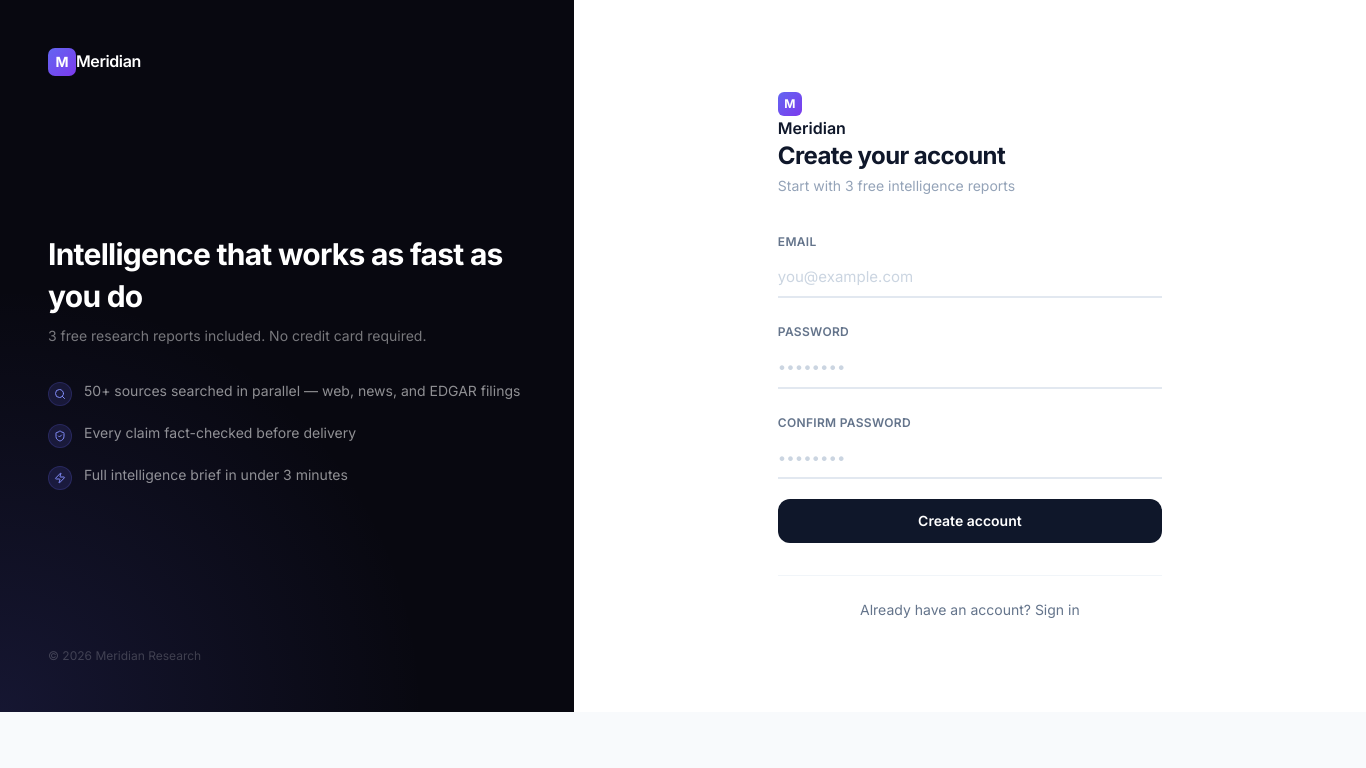
Test: SignUpPage › shows error on mismatched passwords
Type "test@example.com" into the field labelled "Email" at (970, 278), box [778, 258, 1162, 298]
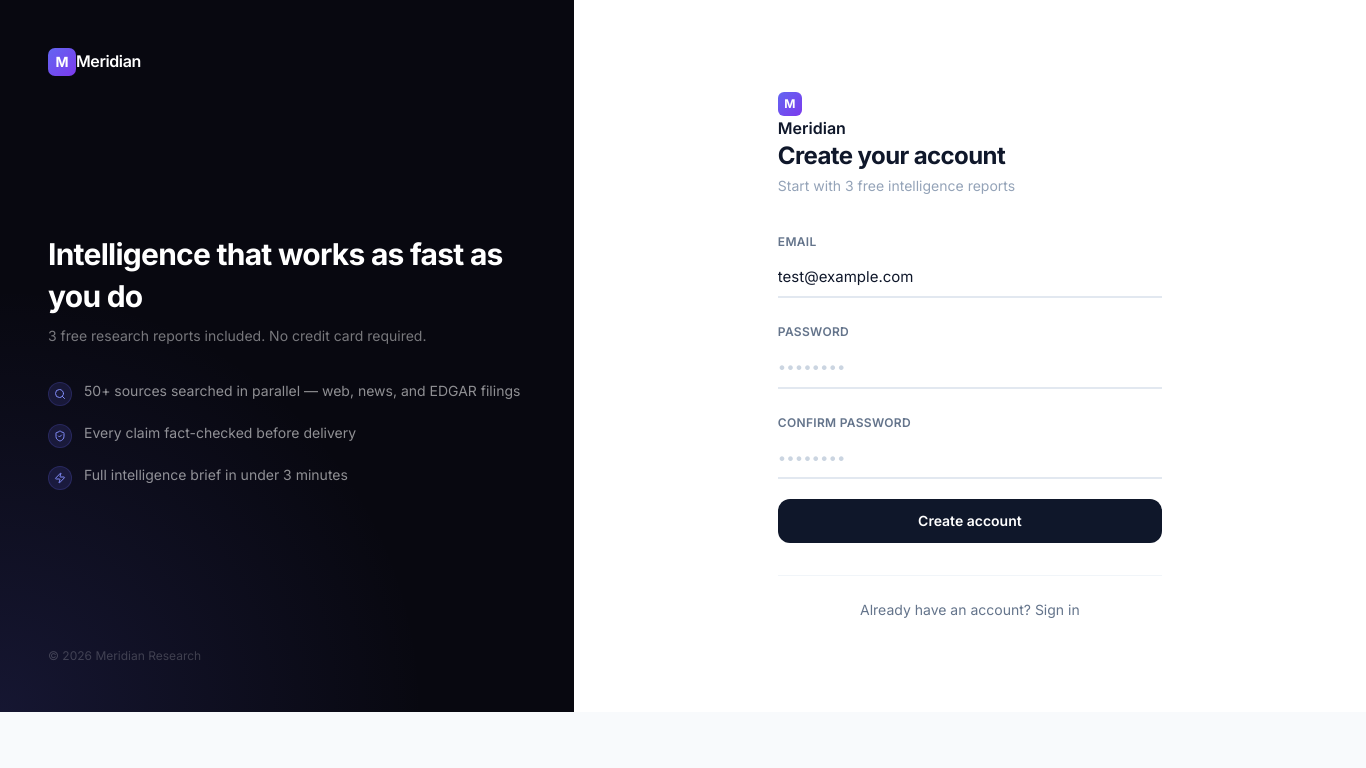
Type "password123" into the password field labelled "Password" at (970, 369), box [778, 348, 1162, 389]
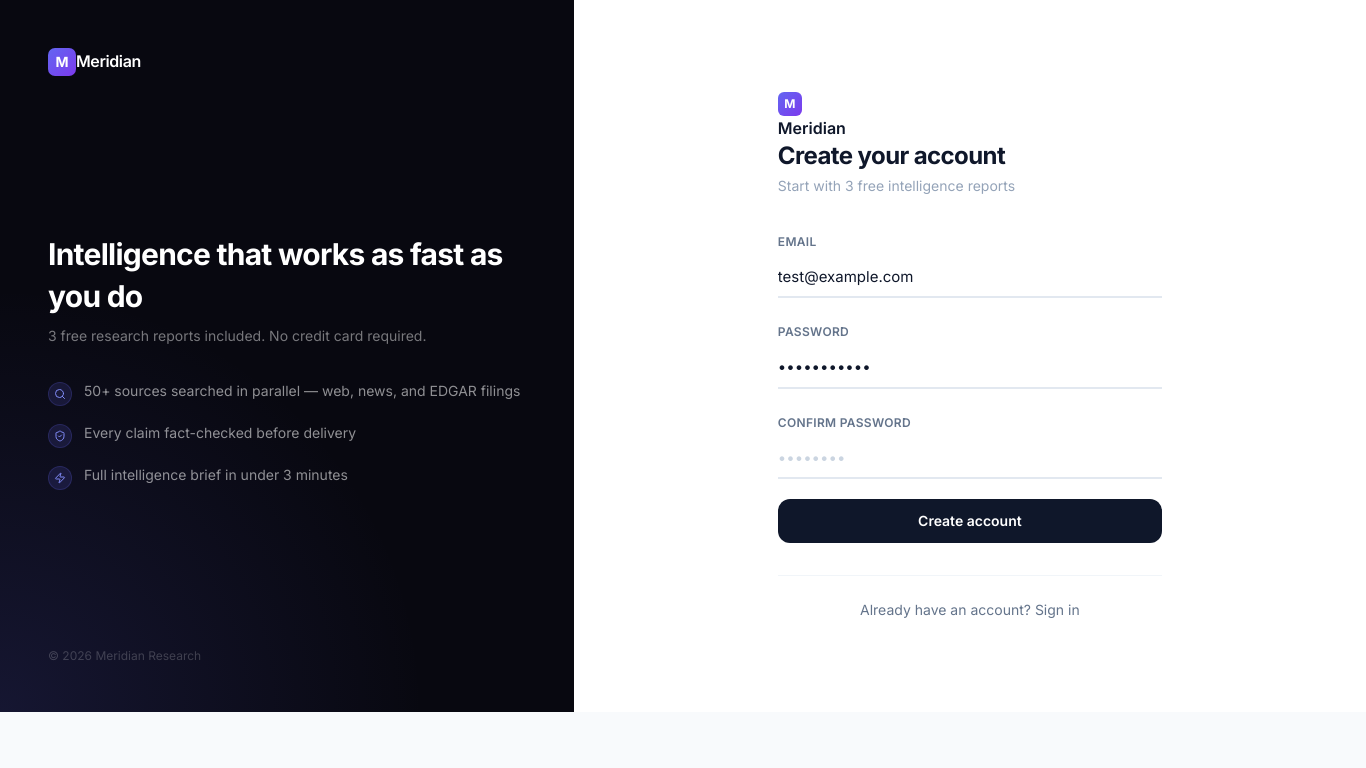
Type "different456" into the password field labelled "Confirm password" at (970, 459), box [778, 439, 1162, 479]
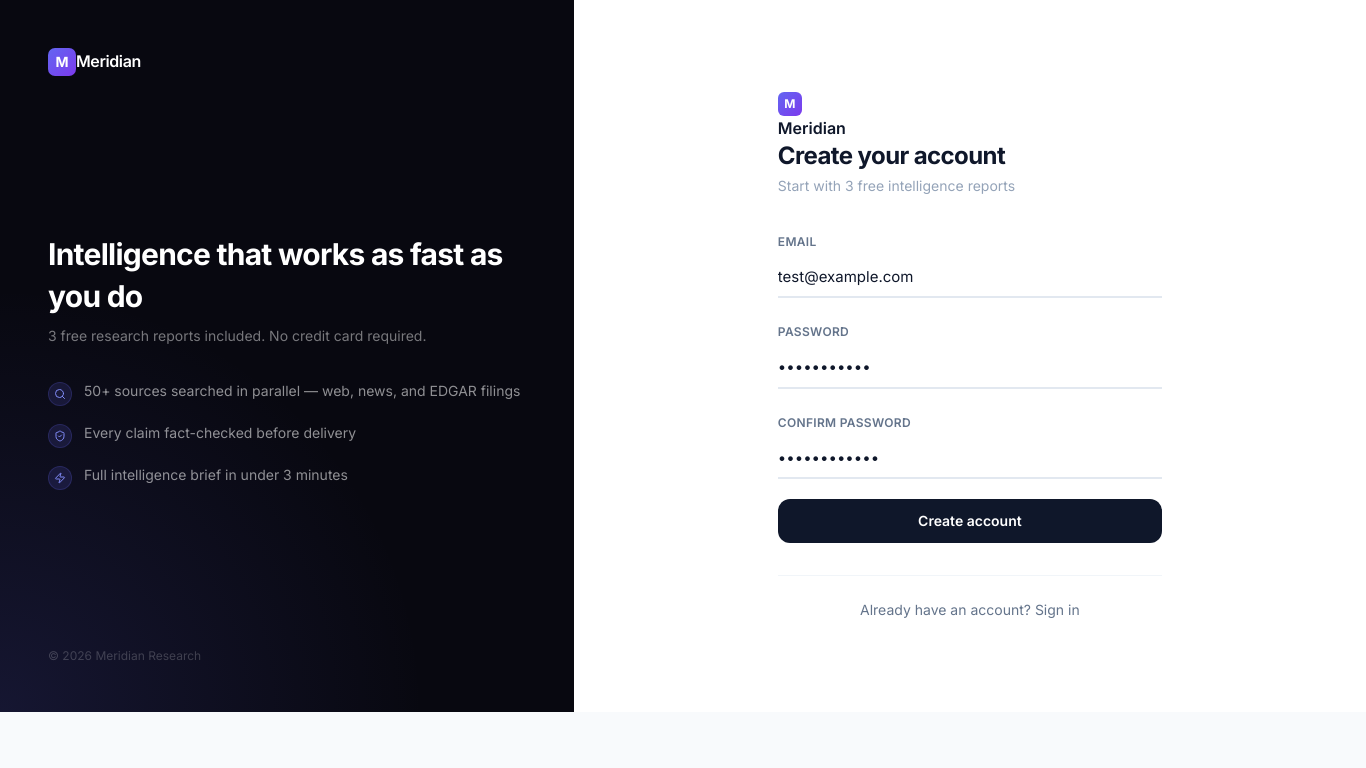
Click the button "Create account" at (970, 521), box [778, 499, 1162, 543]
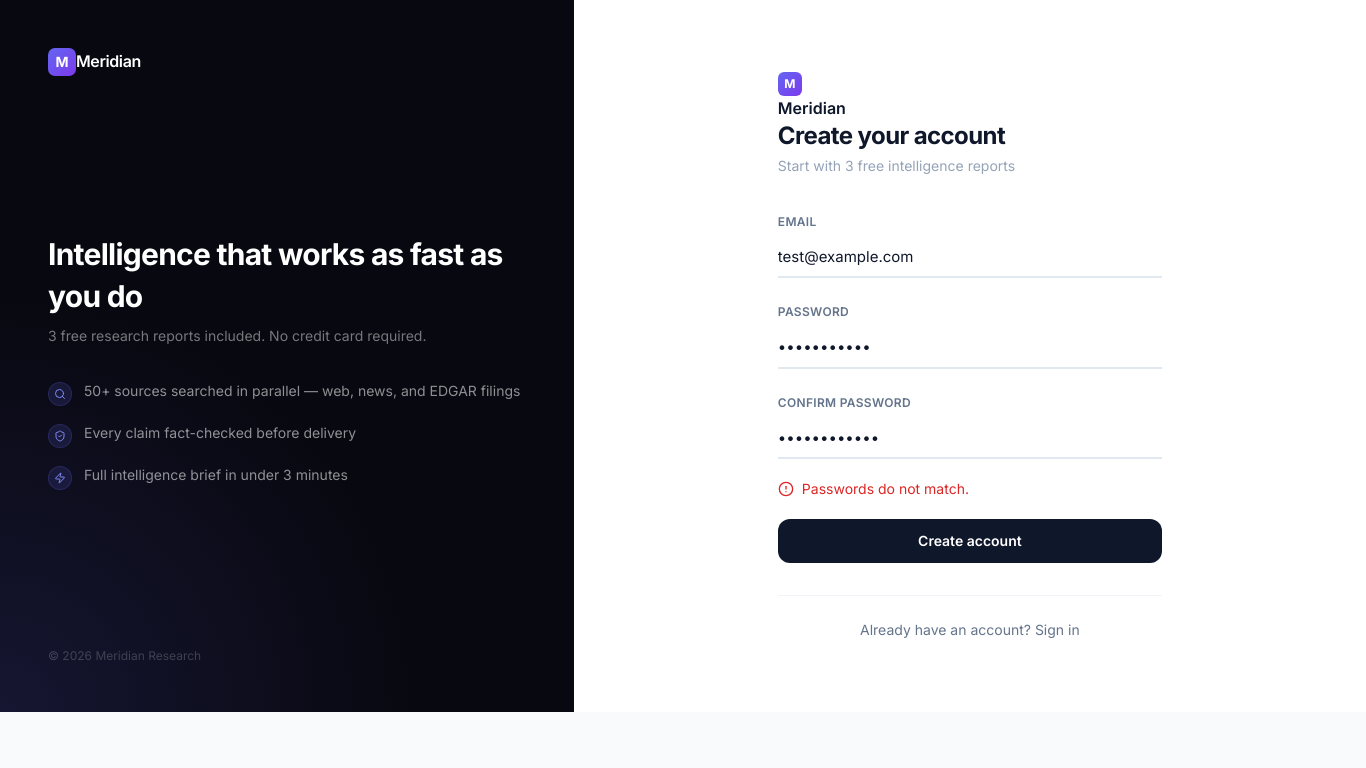
Expected: the message shows "Passwords do not match", [802, 480, 969, 497]
